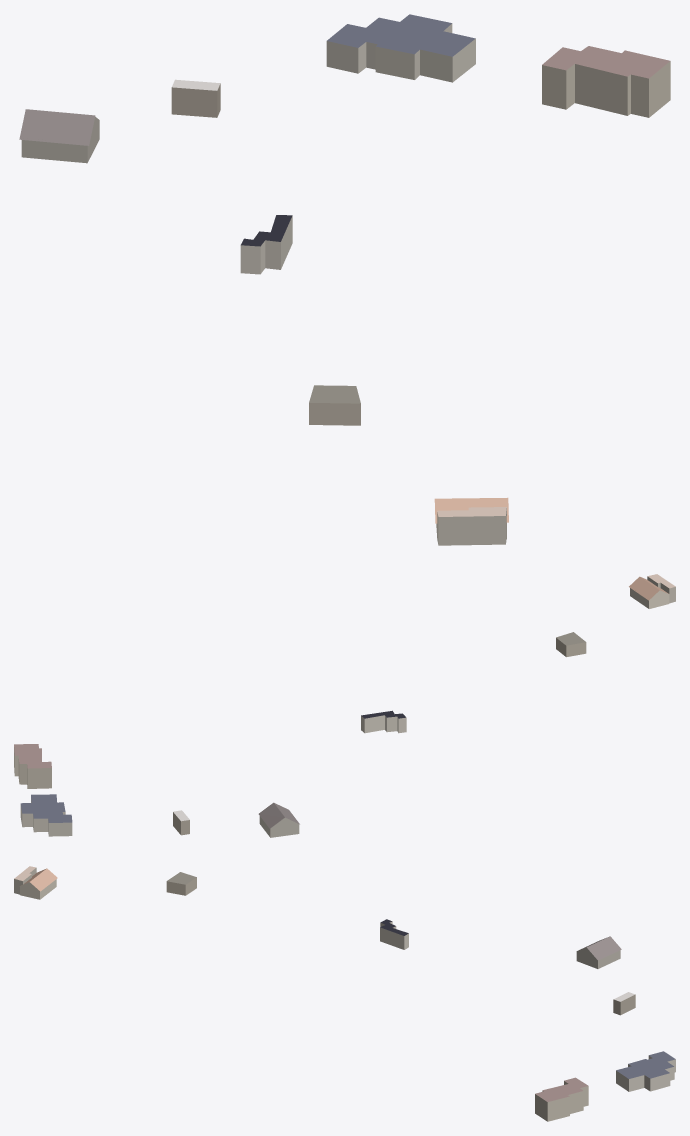
3 renders of one model, top to bottom at view 1: azimuth 30°, elevation 25°; view 2: azimuth 150°, elevation 25°; view 3: azimuth 270°, elevation 25°, orthographic. The views are drawn at different scales.
Parts seen in each view (by area): view 1: tuile; view 2: tuile; view 3: tuile.
Boxes of the visible parts, x1,y1,x2,y2 form: tuile: (19,14,670,545); tuile: (14,574,675,837); tuile: (14,866,675,1121).
Bounding box in the file's own units: 159 × 29.96 × 244.
